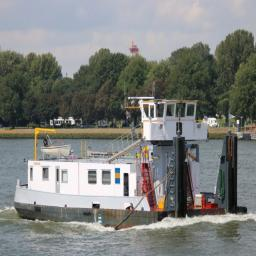tugboat: (14, 96, 250, 236)
